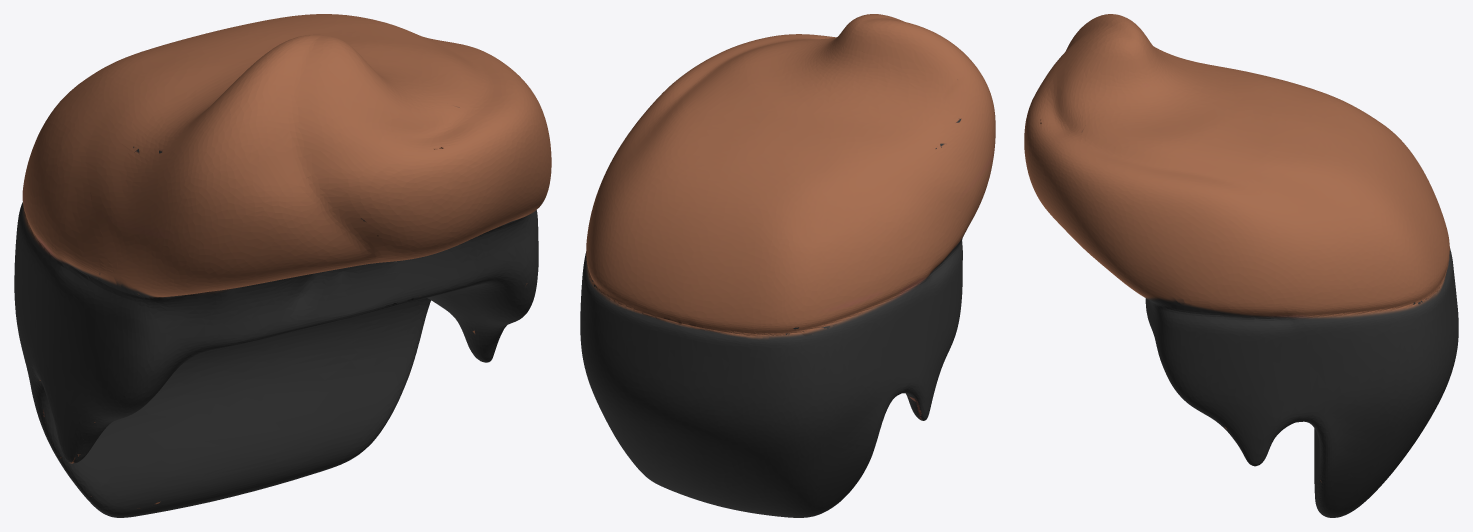
File: Male_Hair_1_4.glb
3 renders of one model, left to right at view 1: azimuth 30°, elevation 25°; view 2: azimuth 150°, elevation 25°; view 3: azimuth 270°, elevation 25°, orthographic. The views are drawn at different scales.
Parts seen in each view (by area): view 1: Plane.040; view 2: Plane.040; view 3: Plane.040.
Boxes of the visible parts, left/top/right/bottom form: Plane.040: left=14, top=14, right=551, bottom=517; Plane.040: left=580, top=14, right=995, bottom=517; Plane.040: left=1024, top=14, right=1458, bottom=517.
Size of the model in its own units: 35.72 by 44.54 by 40.3.
1 material, 1 textured.
